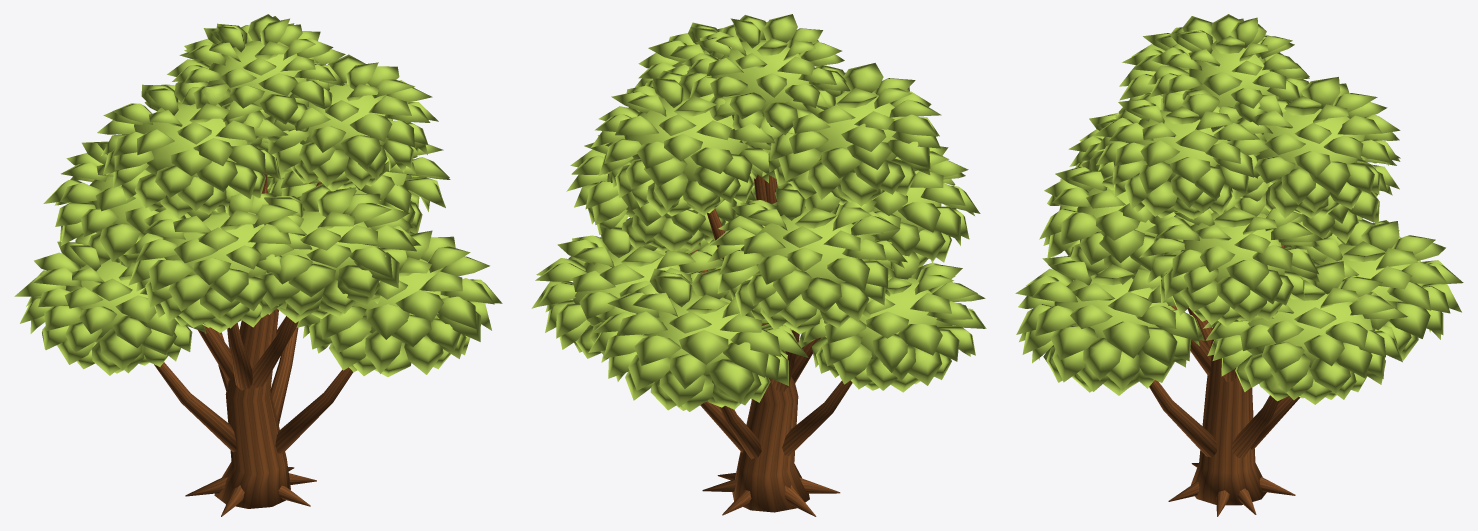
File: SpreadingOak_LOD0.glb
3 renders of one model, left to right at view 1: azimuth 30°, elevation 25°; view 2: azimuth 150°, elevation 25°; view 3: azimuth 270°, elevation 25°, orthographic.
Parts seen in each view (by area): view 1: SM_SpreadingOak_Foliage_LOD0, SM_SpreadingOak_Bark_LOD0; view 2: SM_SpreadingOak_Foliage_LOD0, SM_SpreadingOak_Bark_LOD0; view 3: SM_SpreadingOak_Foliage_LOD0, SM_SpreadingOak_Bark_LOD0.
Boxes of the visible parts, x1,y1,x2,y2 form: SM_SpreadingOak_Foliage_LOD0: (14,14,502,376); SM_SpreadingOak_Bark_LOD0: (154,174,353,516); SM_SpreadingOak_Foliage_LOD0: (531,14,986,411); SM_SpreadingOak_Bark_LOD0: (689,174,852,516); SM_SpreadingOak_Foliage_LOD0: (1015,14,1463,404); SM_SpreadingOak_Bark_LOD0: (1149,188,1300,516).
Bounding box in the file's own units: 6.98 × 7.82 × 6.85.
2 materials, 1 textured.
